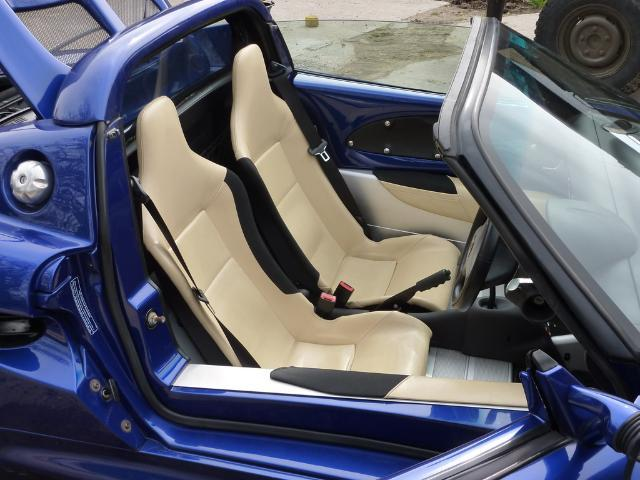Seatbelt: (130, 172, 262, 368), (265, 68, 373, 240)
